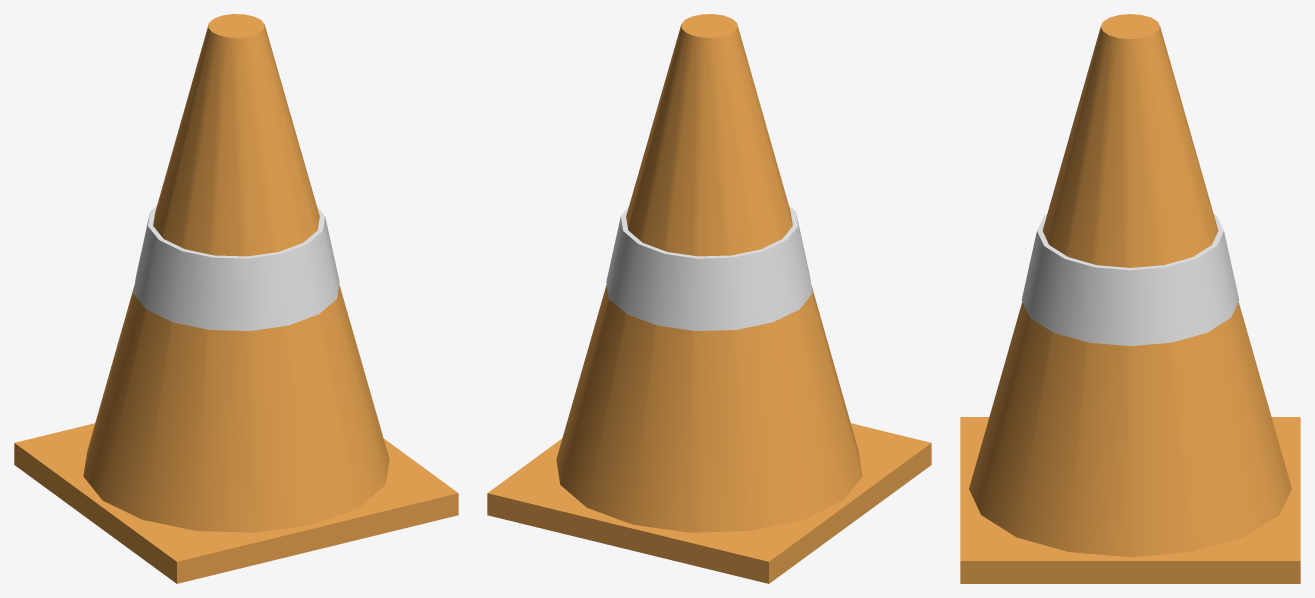
File: traffic_cone.glb
3 renders of one model, left to right at view 1: azimuth 30°, elevation 25°; view 2: azimuth 150°, elevation 25°; view 3: azimuth 270°, elevation 25°, orthographic. The views are drawn at different scales.
Visible parts, largest first — view 1: traffic_cone; view 2: traffic_cone; view 3: traffic_cone.
Part boxes in pixels (box(x1,y1,x2,y2)): traffic_cone: box(14, 14, 458, 583); traffic_cone: box(487, 14, 931, 583); traffic_cone: box(960, 14, 1300, 583).
Size of the model in its own units: 0.4 by 0.63 by 0.4.
